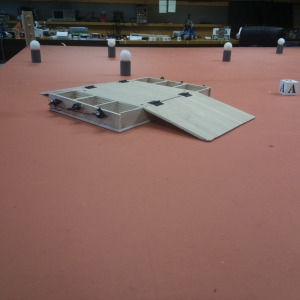blockA: (277, 77, 300, 99)
corner: (21, 11, 40, 40)
obstacle: (30, 38, 42, 66), (219, 41, 234, 62), (121, 49, 131, 78), (105, 36, 117, 59), (274, 38, 287, 54)
side: (48, 88, 142, 135), (138, 72, 208, 90)
slope: (147, 92, 250, 138)
